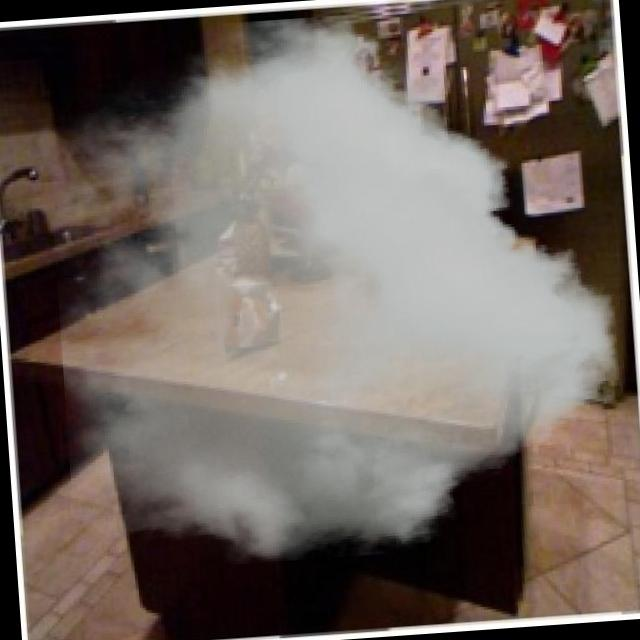Smoke: (39, 0, 630, 575)
